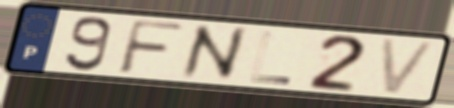2: (306, 33, 370, 95)
9: (64, 15, 114, 72)
F: (115, 17, 188, 77)
L: (247, 29, 294, 86)
N: (178, 22, 249, 81)
V: (377, 36, 441, 97)
